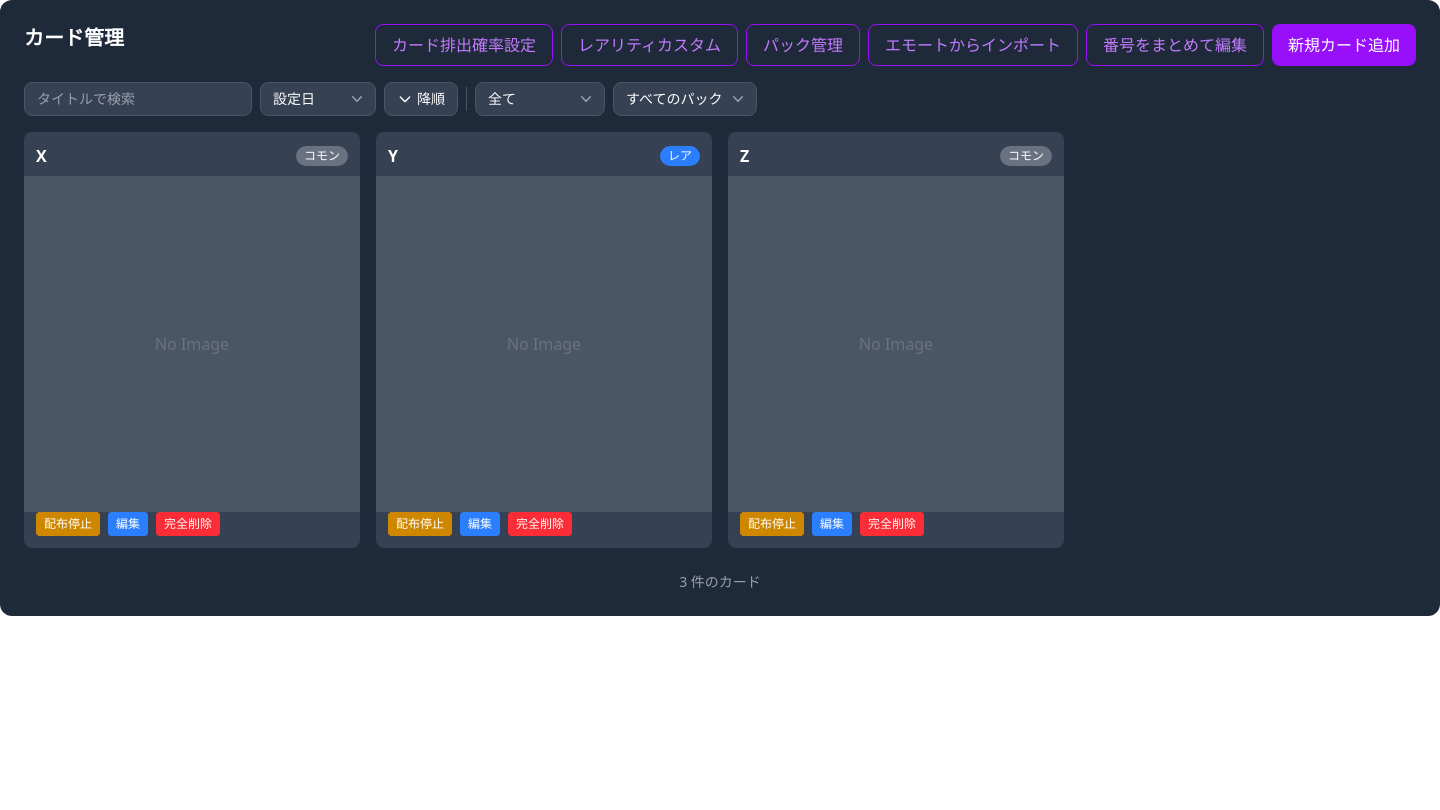
Test: CardManager card-form preview: scope-aware pool label + probability (Issue #580) › shows the pack pool label and a probability resolved from the pack's own weights (not the global ones)
Click the button "新規カード追加": [1344, 45] box [1272,24,1416,66]
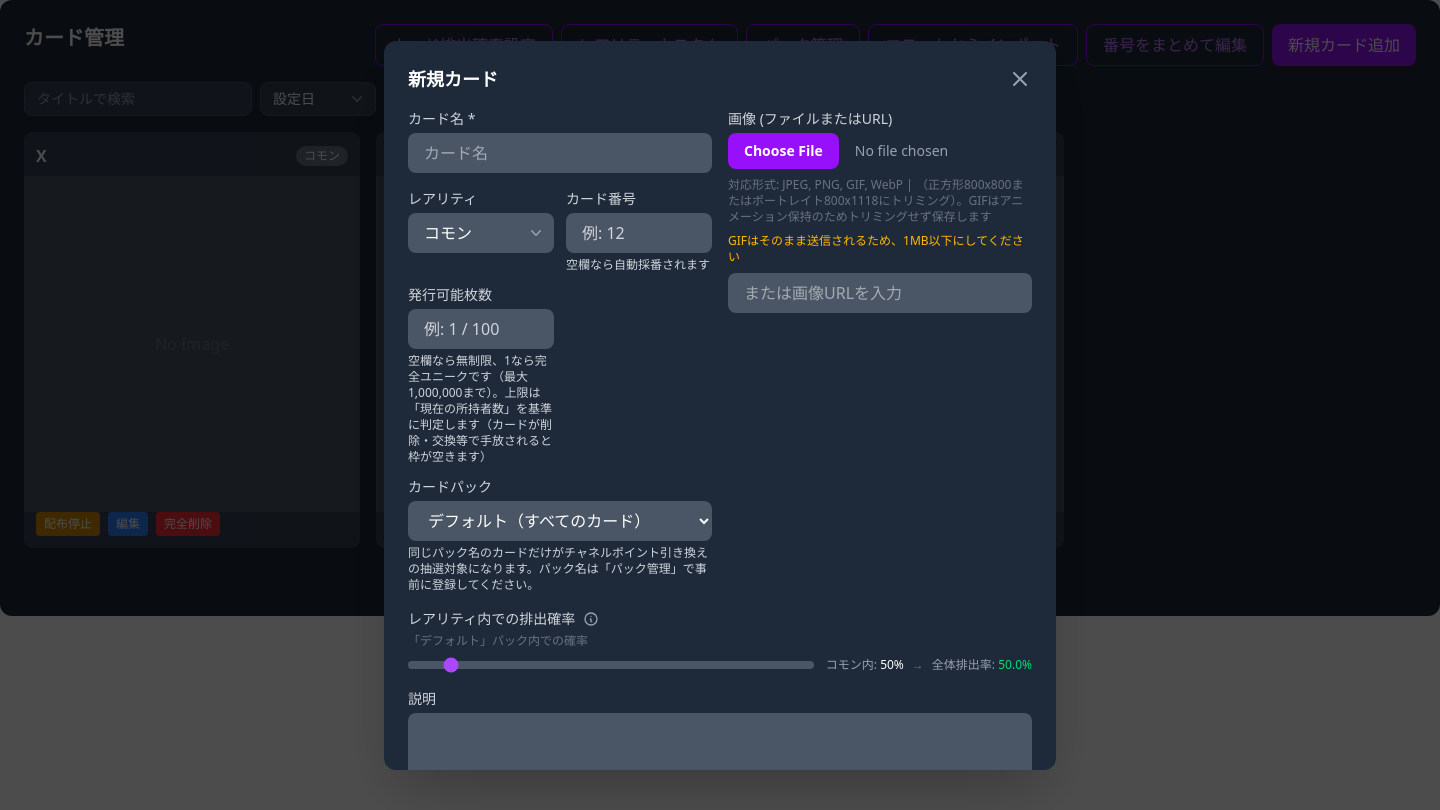
Select "weapons" in the dropdown named "collectionName" below "カードパック": [560, 520] box [408,500,712,540]
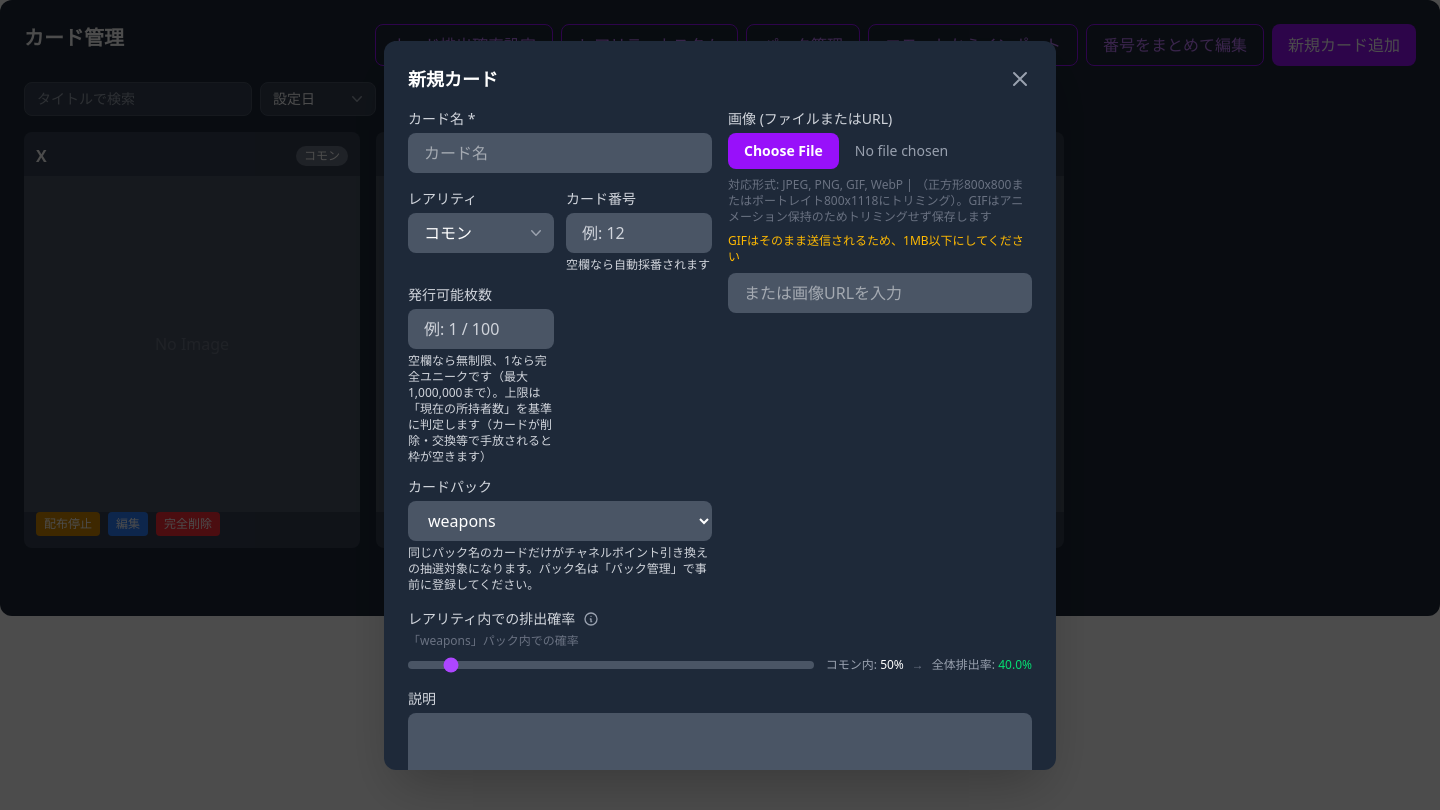
Result: the text "コモン内:" is shown at [826,656,880,672]
Result: the text "50%" is shown at [880,656,904,672]
Result: the text "「weapons」パック内での確率" is shown at [408,632,579,648]
